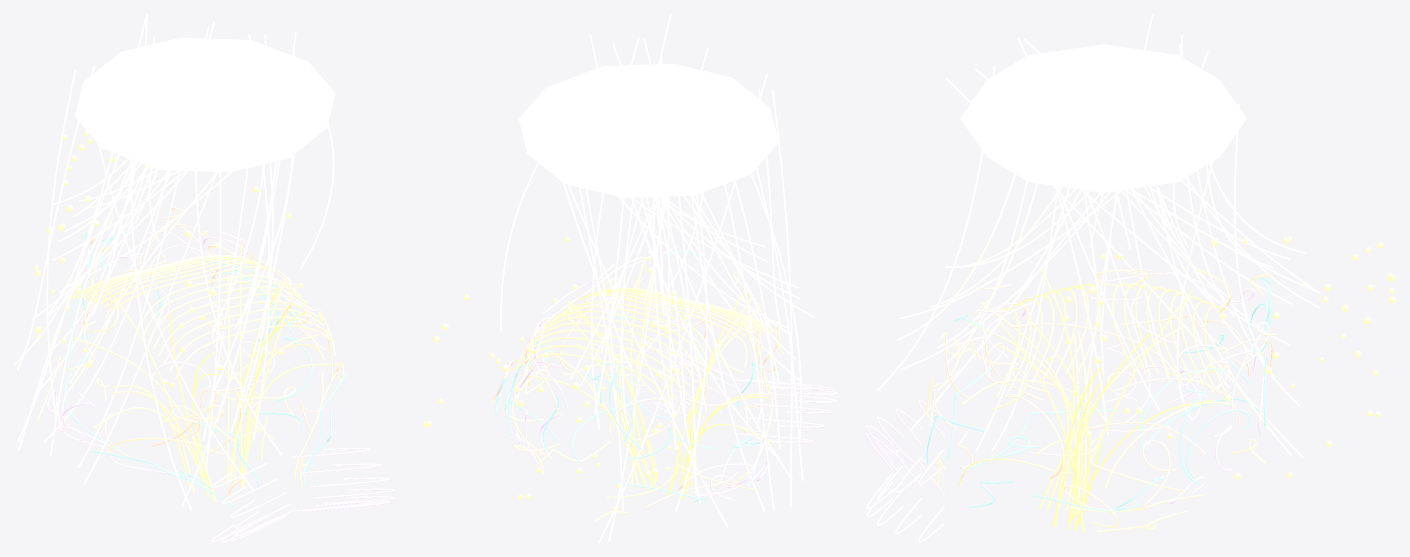
3 renders of one model, left to right at view 1: azimuth 30°, elevation 25°; view 2: azimuth 150°, elevation 25°; view 3: azimuth 270°, elevation 25°, orthographic. The views are drawn at different scales.
Parts seen in each view (by area): view 1: Return_Unity_Source_Crown, Return_Condensing_Light_Streams, Return_Harmonized_Callosum, Return_Brain_Lavender_Peace, Return_Brain_Warm_Pearl_Amber, Return_Brain_Serene_Teal_Silk, Return_Brain_Rose_Gold_Loom, Return_Condensing_Droplets; view 2: Return_Unity_Source_Crown, Return_Condensing_Light_Streams, Return_Harmonized_Callosum, Return_Brain_Lavender_Peace, Return_Brain_Warm_Pearl_Amber, Return_Brain_Rose_Gold_Loom, Return_Brain_Serene_Teal_Silk, Return_Condensing_Droplets; view 3: Return_Unity_Source_Crown, Return_Condensing_Light_Streams, Return_Harmonized_Callosum, Return_Brain_Lavender_Peace, Return_Brain_Rose_Gold_Loom, Return_Brain_Warm_Pearl_Amber, Return_Brain_Serene_Teal_Silk, Return_Condensing_Droplets.
Part boxes in pixels (x1=…): Return_Unity_Source_Crown: x1=74, y1=37, x2=335, y2=172; Return_Condensing_Light_Streams: x1=14, y1=14, x2=334, y2=510; Return_Harmonized_Callosum: x1=70, y1=244, x2=337, y2=502; Return_Brain_Lavender_Peace: x1=47, y1=231, x2=394, y2=542; Return_Brain_Warm_Pearl_Amber: x1=36, y1=206, x2=343, y2=488; Return_Brain_Serene_Teal_Silk: x1=64, y1=226, x2=347, y2=506; Return_Brain_Rose_Gold_Loom: x1=82, y1=207, x2=333, y2=501; Return_Condensing_Droplets: x1=34, y1=131, x2=302, y2=386; Return_Unity_Source_Crown: x1=518, y1=63, x2=778, y2=197; Return_Condensing_Light_Streams: x1=500, y1=14, x2=813, y2=542; Return_Harmonized_Callosum: x1=512, y1=260, x2=777, y2=500; Return_Brain_Lavender_Peace: x1=511, y1=245, x2=837, y2=499; Return_Brain_Warm_Pearl_Amber: x1=504, y1=278, x2=783, y2=521; Return_Brain_Rose_Gold_Loom: x1=491, y1=257, x2=775, y2=508; Return_Brain_Serene_Teal_Silk: x1=495, y1=250, x2=764, y2=501; Return_Condensing_Droplets: x1=423, y1=237, x2=687, y2=499; Return_Unity_Source_Crown: x1=960, y1=44, x2=1246, y2=192; Return_Condensing_Light_Streams: x1=877, y1=14, x2=1320, y2=457; Return_Harmonized_Callosum: x1=966, y1=269, x2=1227, y2=532; Return_Brain_Lavender_Peace: x1=866, y1=272, x2=1264, y2=542; Return_Brain_Rose_Gold_Loom: x1=929, y1=269, x2=1276, y2=506; Return_Brain_Warm_Pearl_Amber: x1=926, y1=269, x2=1270, y2=532; Return_Brain_Serene_Teal_Silk: x1=926, y1=277, x2=1272, y2=511; Return_Condensing_Droplets: x1=1048, y1=236, x2=1395, y2=479.
Size of the model in its own units: 5.91 by 7.9 by 8.03.
